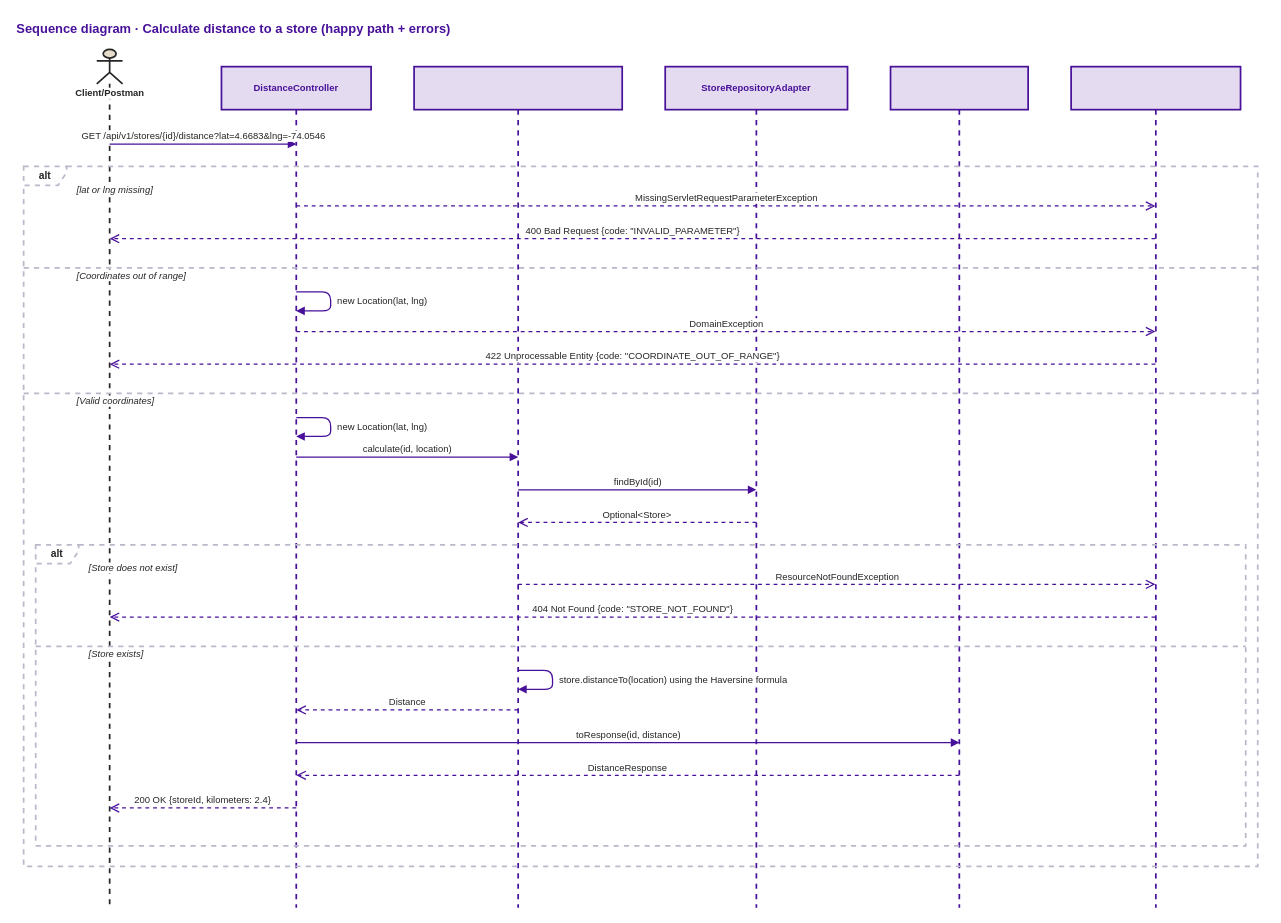
Image size: 1281x923. Some labels were removed from this diagram. Here are the shapes that lost their labels. From the top down, the box of each, then its label:
(413, 65, 623, 908): CalculateDistanceUseCaseImpl
(889, 65, 1029, 908): StoreMapperIn
(1070, 65, 1241, 908): GlobalExceptionHandler
